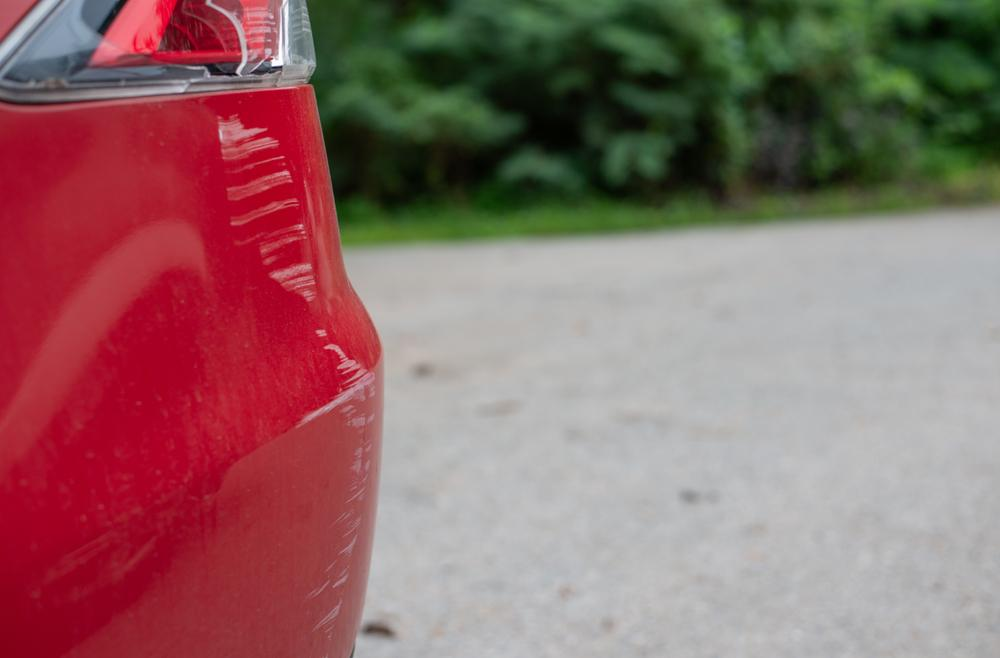scratch: (210, 111, 374, 640)
